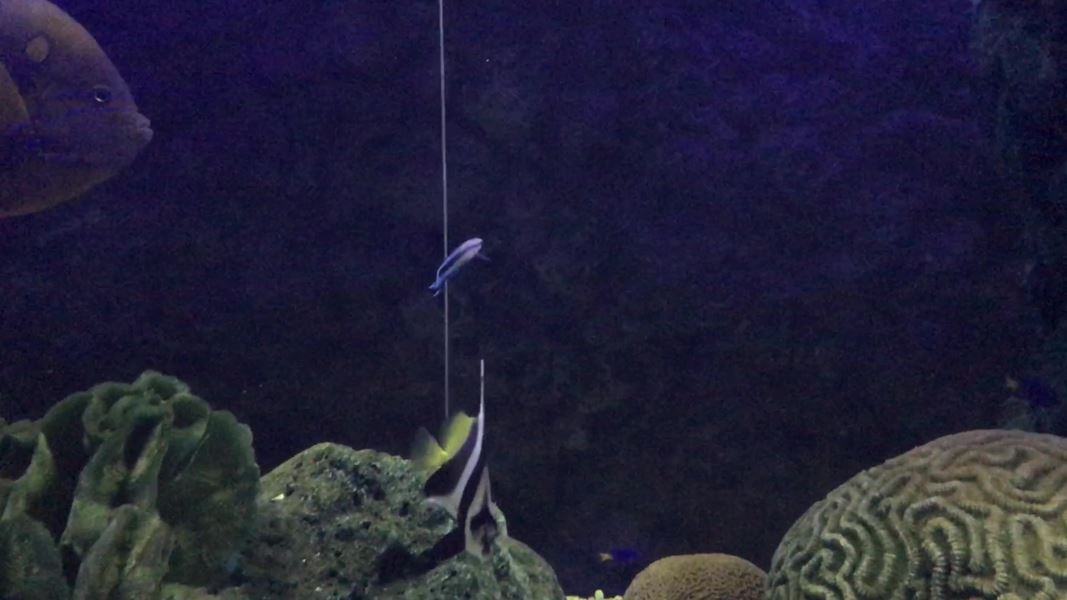Bluesteak cleaner wrasse: (419, 231, 491, 307)
